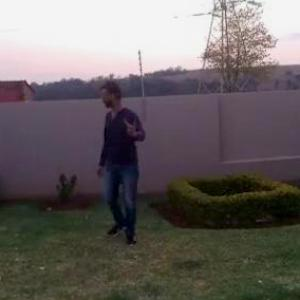takeoff-hand: (122, 111, 142, 138)
